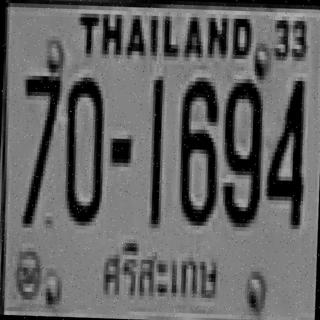N00: (62, 73, 104, 222)
N01: (146, 76, 163, 224)
N04: (263, 76, 305, 225)
N06: (176, 77, 218, 222)
N07: (18, 71, 60, 224)
N09: (220, 76, 261, 225)
P59: (97, 234, 227, 310)
